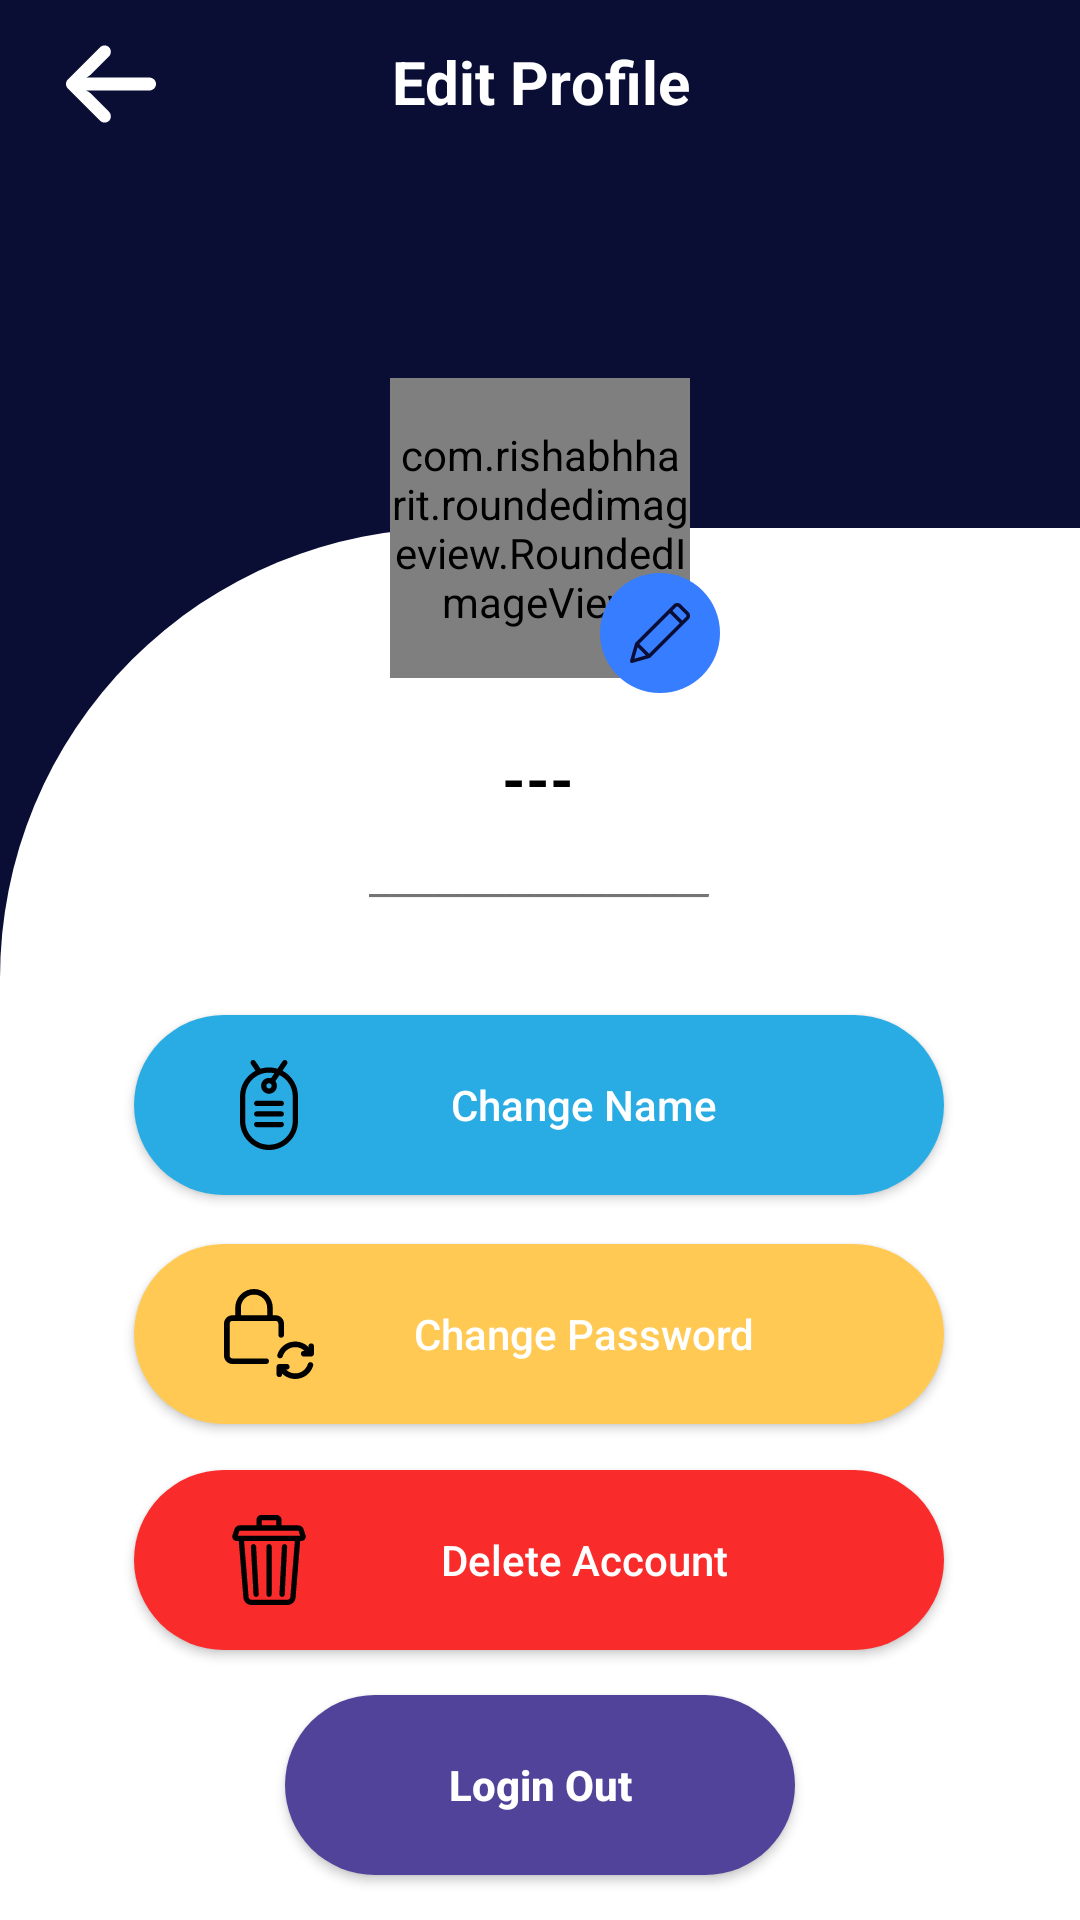

Screen size 1080*1920. Icon name, then its center in pixels as point (x, y):
back: point (111, 84)
pen: point (660, 633)
